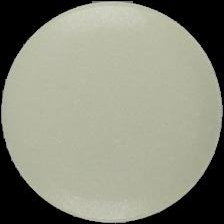10544-252: (0, 0, 224, 224)
